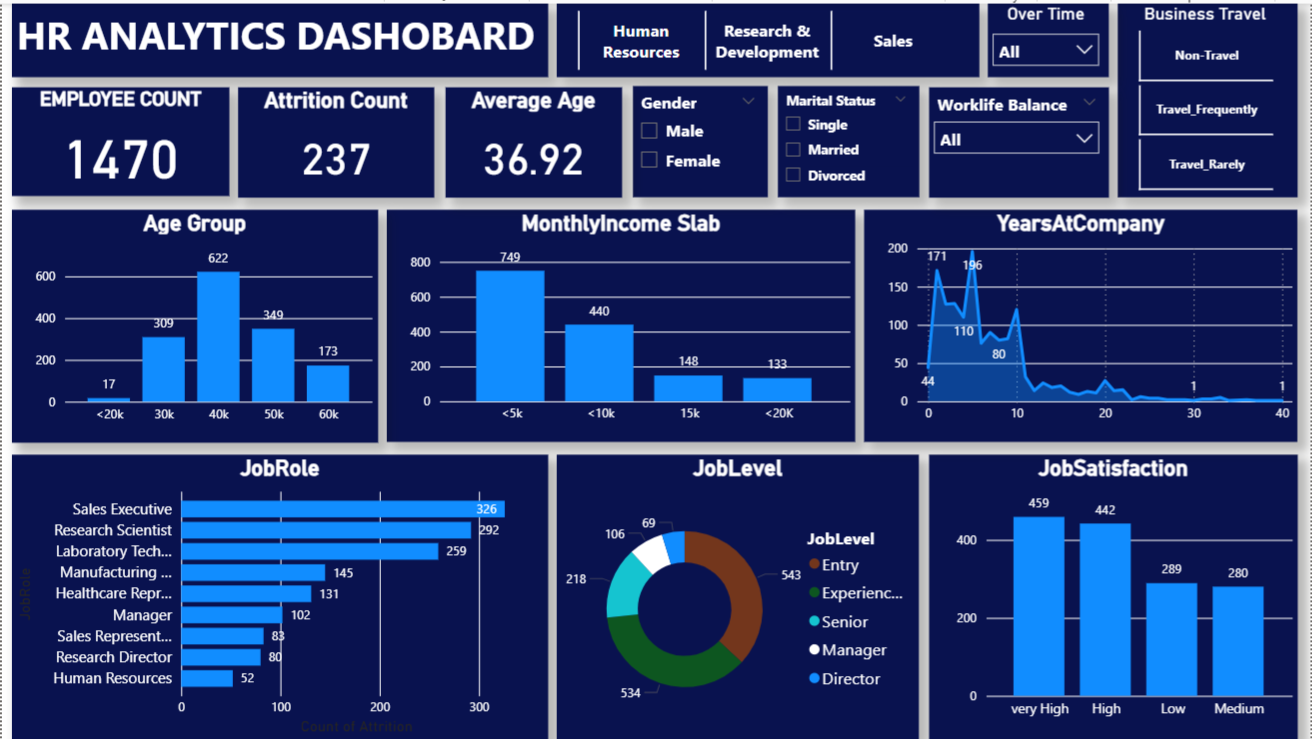

The page's visual inventory and layout, read from the dashboard file:
{"tool":"powerbi","page":{"name":"Page 1","canvas":[1280,720],"ordinal":0},"visuals":[{"type":"textbox","box":[9.8,0,524.6,72.1],"z":0},{"type":"card","title":"EMPLOYEE COUNT","fields":{"Values":["CountNonNull(cleaned_data.EmployeeNumber)"]},"box":[9.8,81.9,212.8,106.4],"z":1000},{"type":"slicer","fields":{"Values":["cleaned_data.Department"]},"box":[542.9,0,413.3,72.1],"z":2000},{"type":"card","title":"Attrition Count","fields":{"Values":["cleaned_data.attrition_countyes"]},"box":[231.1,81.9,192,107.6],"z":3000},{"type":"columnChart","title":"MonthlyIncome Slab","fields":{"Category":["cleaned_data.monthlyincomesalb"],"Y":["CountNonNull(cleaned_data.Attrition)"]},"box":[376.6,201.8,458.6,227.4],"z":4000},{"type":"columnChart","title":"Age Group","fields":{"Y":["CountNonNull(cleaned_data.Attrition)"],"Category":["cleaned_data.agegrp"]},"box":[9.6,201.7,358.1,227.8],"z":5000},{"type":"clusteredBarChart","title":"JobRole","fields":{"Category":["cleaned_data.JobRole"],"Y":["CountNonNull(cleaned_data.Attrition)"]},"box":[9.8,441.4,524.6,278.8],"z":6000},{"type":"slicer","fields":{"Values":["cleaned_data.Gender"]},"box":[617.5,80.7,132.1,108.8],"z":7000},{"type":"donutChart","title":"JobLevel","fields":{"Y":["CountNonNull(cleaned_data.Attrition)"],"Category":["cleaned_data.JobLevel"]},"box":[542.9,441.4,354.6,278.8],"z":8000},{"type":"columnChart","title":"JobSatisfaction","fields":{"Y":["CountNonNull(cleaned_data.Attrition)"],"Category":["cleaned_data.jbs_grp"]},"box":[907.3,441.4,360.7,278.8],"z":9000},{"type":"slicer","fields":{"Values":["cleaned_data.MaritalStatus"]},"box":[759.4,80.7,138.2,108.8],"z":10000},{"type":"slicer","title":"Business Travel","fields":{"Values":["cleaned_data.BusinessTravel"]},"box":[1092,0,176.1,189.5],"z":11000},{"type":"areaChart","title":"YearsAtCompany","fields":{"Category":["cleaned_data.YearsAtCompany"],"Y":["CountNonNull(cleaned_data.Attrition)"]},"box":[843.8,201.8,424.3,227.4],"z":12000},{"type":"slicer","title":"Over Time","fields":{"Values":["cleaned_data.OverTime"]},"box":[964.8,0,118.6,72.1],"z":13000},{"type":"slicer","fields":{"Values":["cleaned_data.WorkLifeBalance","cleaned_data.Attrition"]},"box":[907.3,81.9,176.1,107.6],"z":15000},{"type":"card","title":"Average Age","fields":{"Values":["Avg(cleaned_data.Age)"]},"box":[434.1,81.9,172.4,107.6],"z":16000}]}

Visuals, with their boxes in screenshot pixels (x1, y1, x2, y2), scaled from the page's 1280x720 canvas onto the 1312x739 screenshot:
textbox: 10 0 548 74
"EMPLOYEE COUNT" card: 10 84 228 193
slicer - cleaned_data.Department: 556 0 980 74
"Attrition Count" card: 237 84 434 195
"MonthlyIncome Slab" columnChart: 386 207 856 441
"Age Group" columnChart: 10 207 377 441
"JobRole" clusteredBarChart: 10 453 548 738
slicer - cleaned_data.Gender: 633 83 768 195
"JobLevel" donutChart: 556 453 920 738
"JobSatisfaction" columnChart: 930 453 1300 738
slicer - cleaned_data.MaritalStatus: 778 83 920 195
"Business Travel" slicer: 1119 0 1300 195
"YearsAtCompany" areaChart: 865 207 1300 441
"Over Time" slicer: 989 0 1110 74
slicer - cleaned_data.WorkLifeBalance x cleaned_data.Attrition: 930 84 1110 195
"Average Age" card: 445 84 622 195
